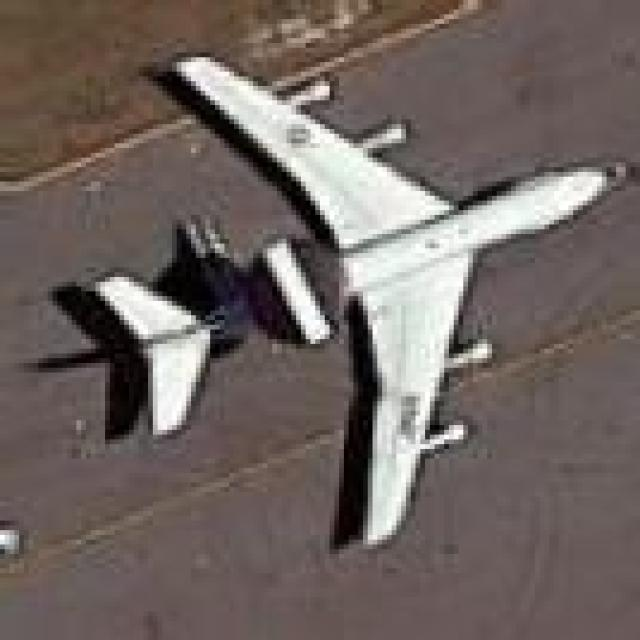E-3_TopDown: (24, 50, 640, 554)
